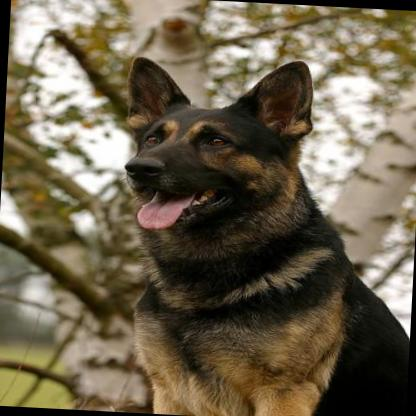German_shepherd: (104, 48, 416, 416)
